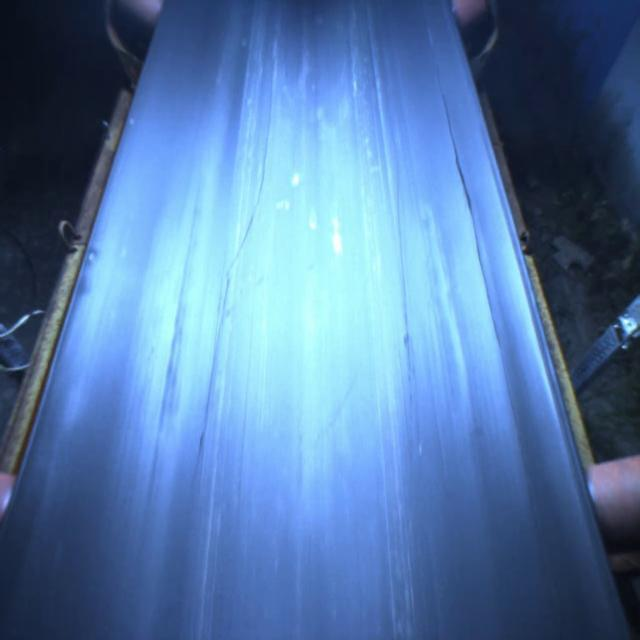Tear: (430, 78, 508, 354), (219, 139, 284, 268)
